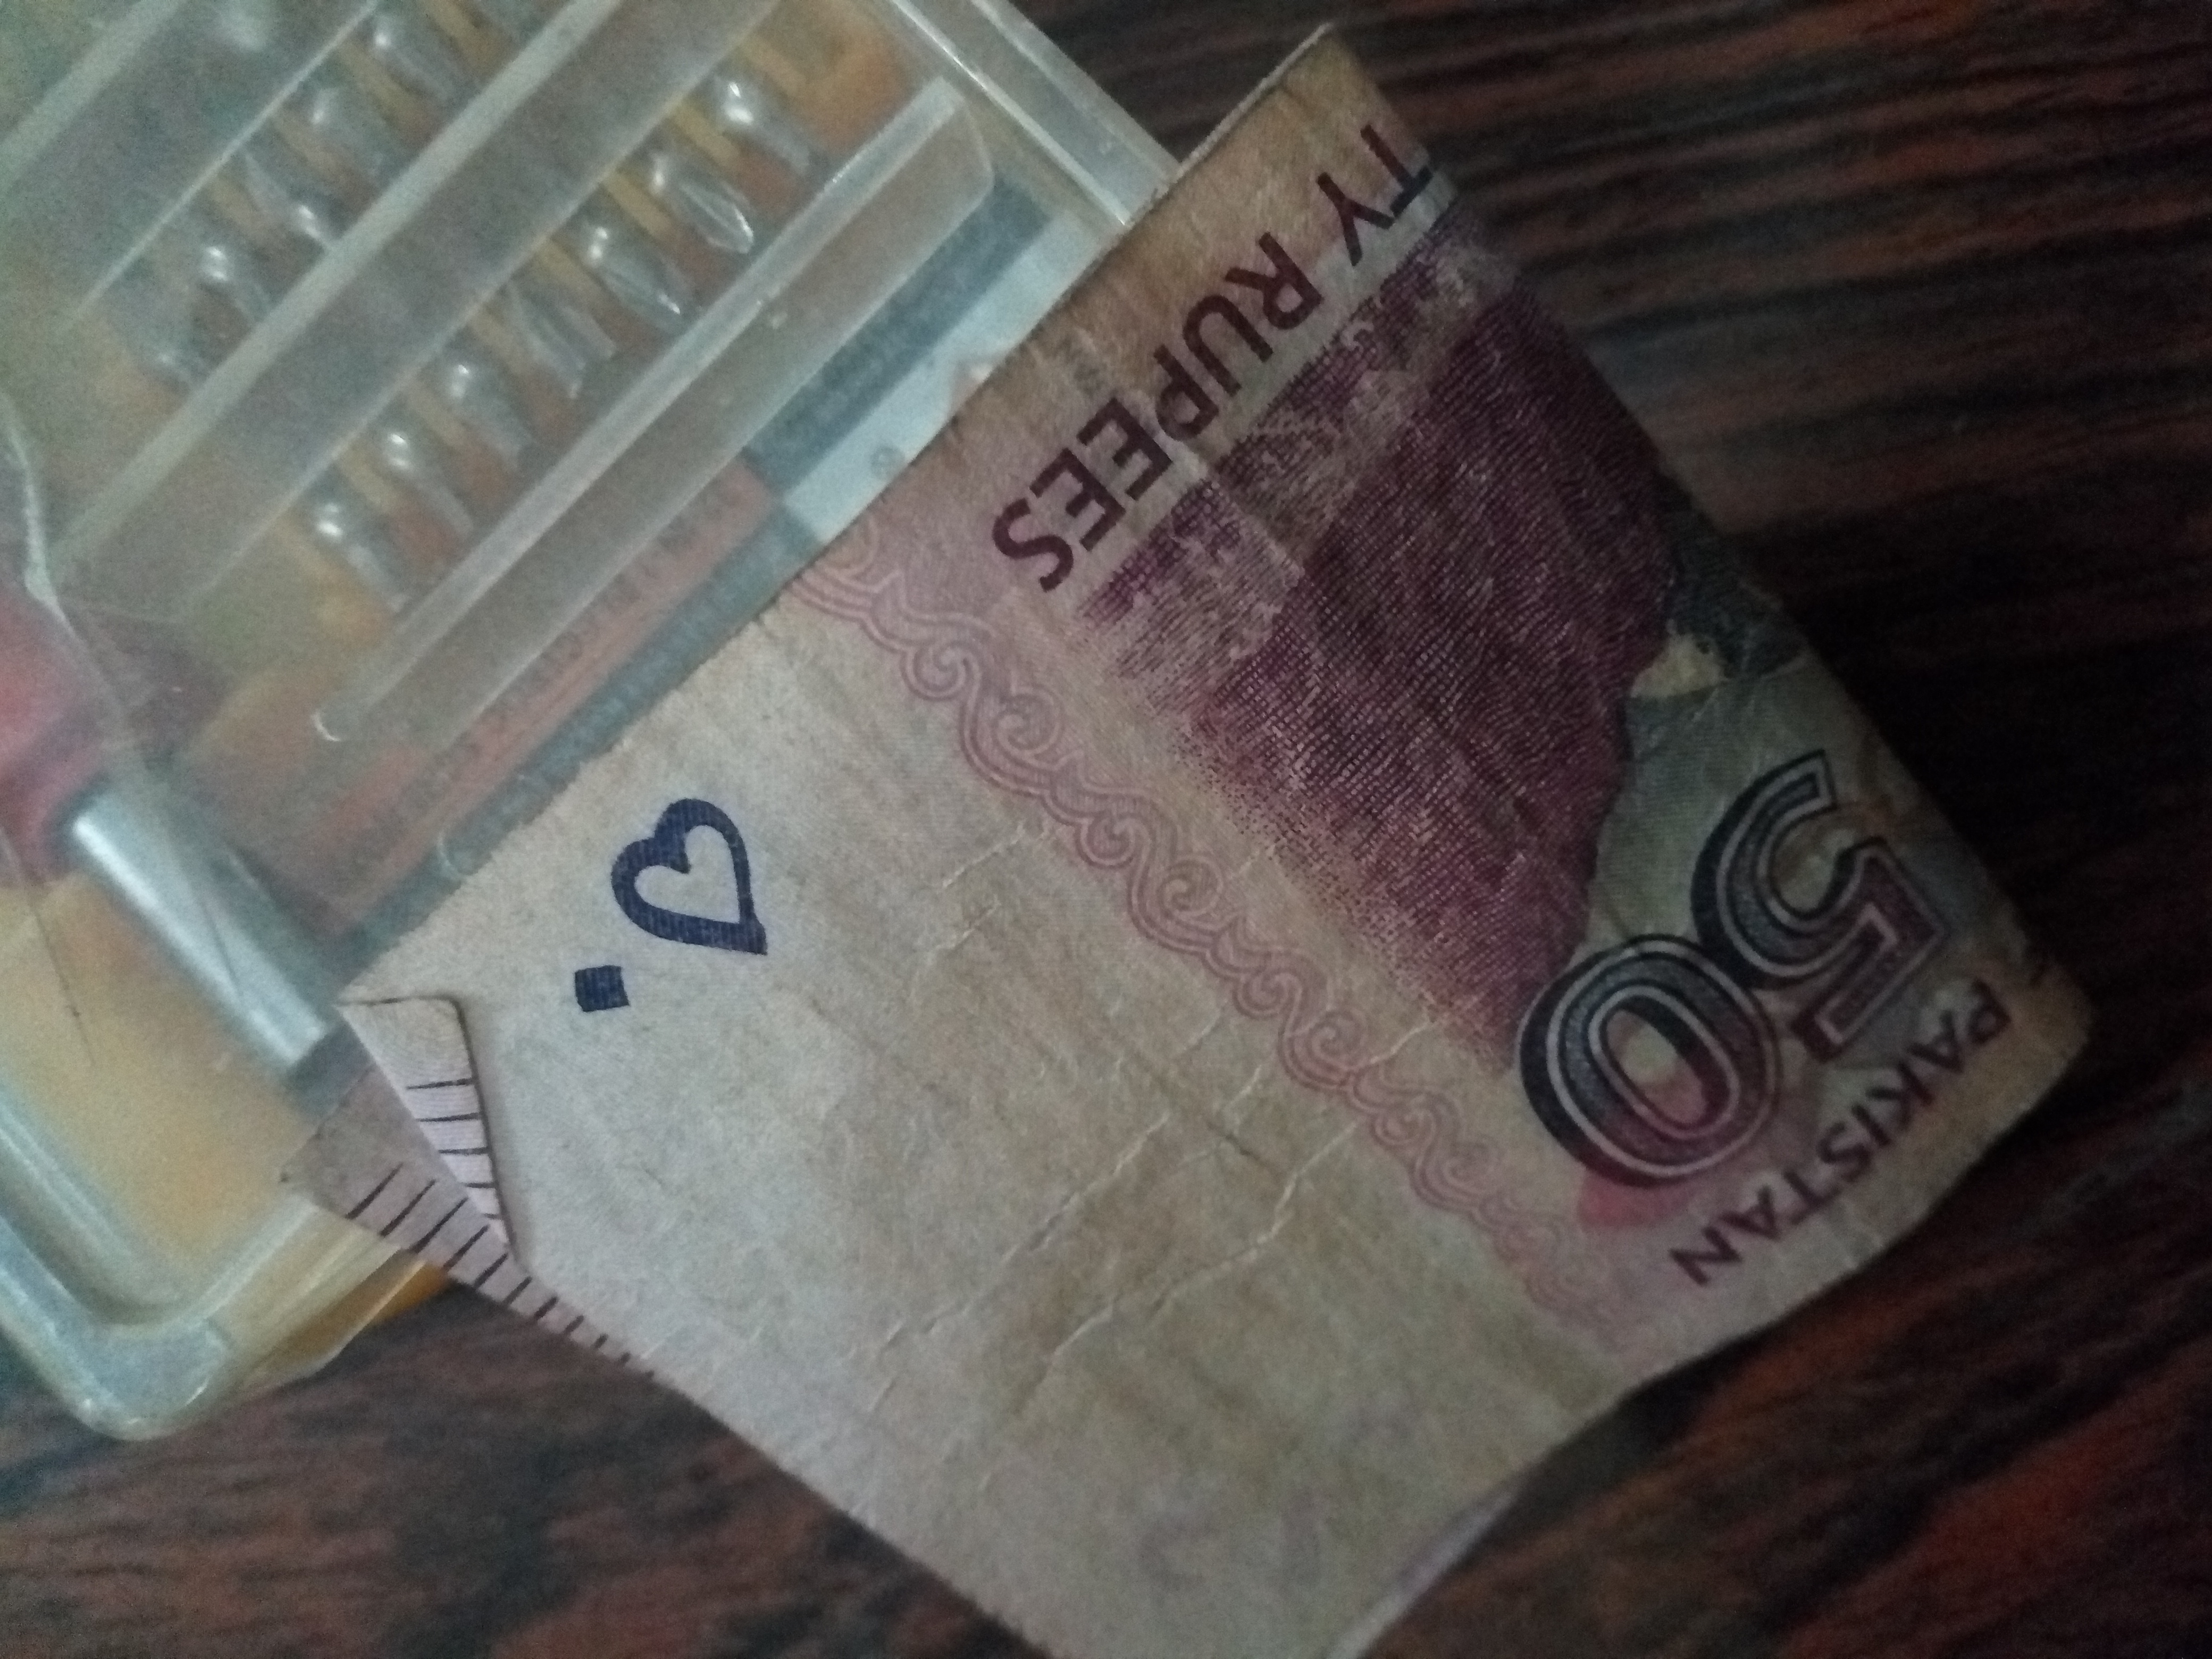50 rupee: (333, 49, 2141, 1645), (509, 770, 880, 1098)
